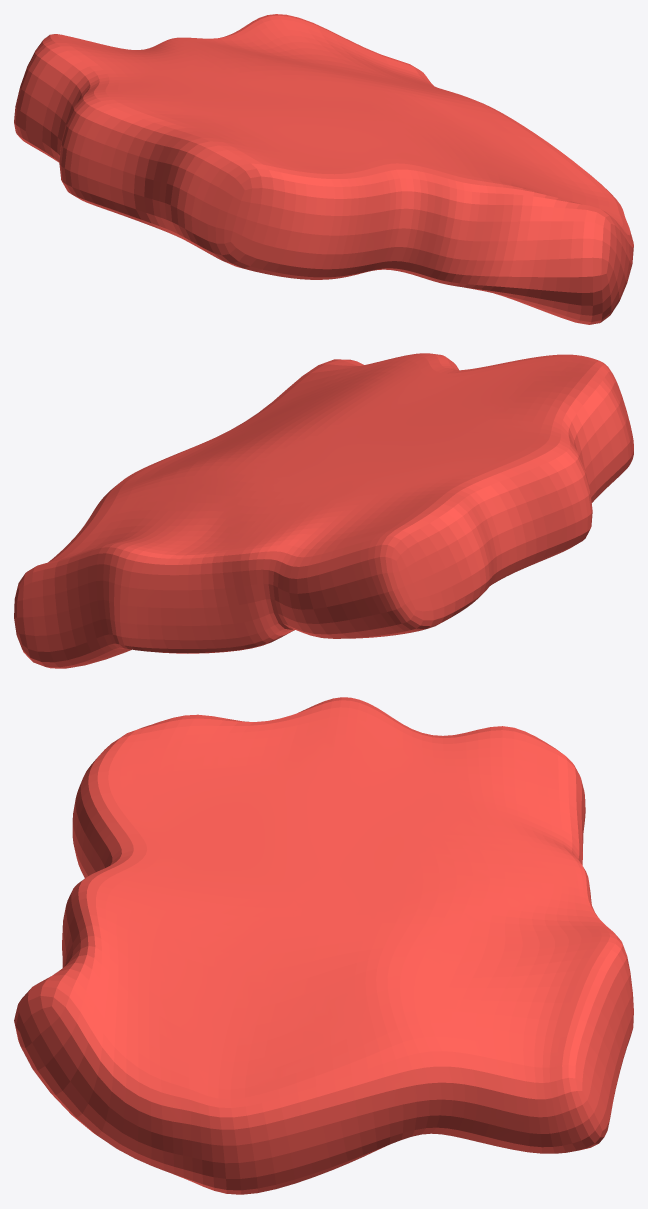
Rendered from TomatoPoured.fbx.
3 views of the same model, one above another, from view 1: azimuth 30°, elevation 25°; view 2: azimuth 150°, elevation 25°; view 3: azimuth 270°, elevation 25° (orthographic). The views are drawn at different scales.
Visible parts, largest first — view 1: TomatoPoured; view 2: TomatoPoured; view 3: TomatoPoured.
Boxes of the visible parts, x1,y1,x2,y2 form: TomatoPoured: [14, 14, 633, 324]; TomatoPoured: [14, 353, 633, 668]; TomatoPoured: [14, 697, 633, 1194].
Size of the model in its own units: 262 by 130 by 268.
